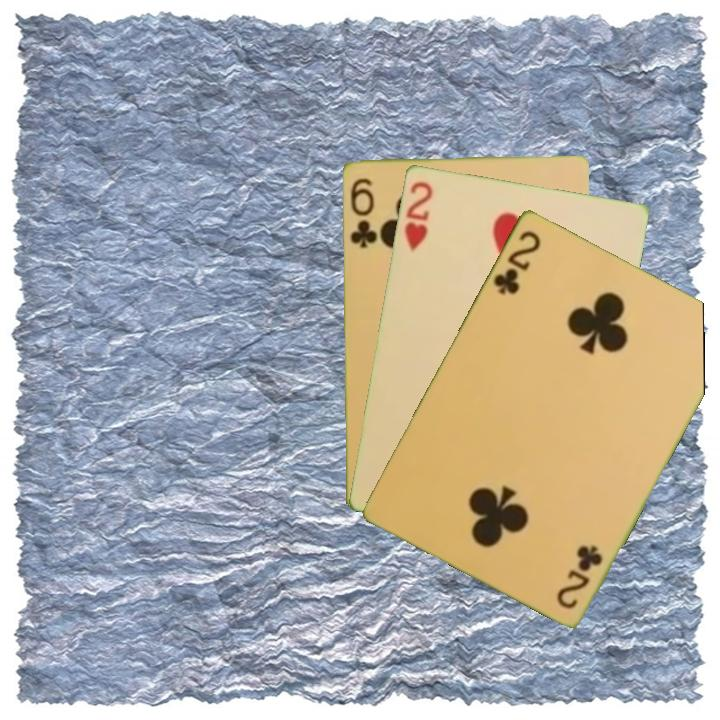2c: (489, 226, 543, 297), (552, 541, 606, 612)
2h: (400, 177, 435, 254)
6c: (346, 174, 380, 250)
